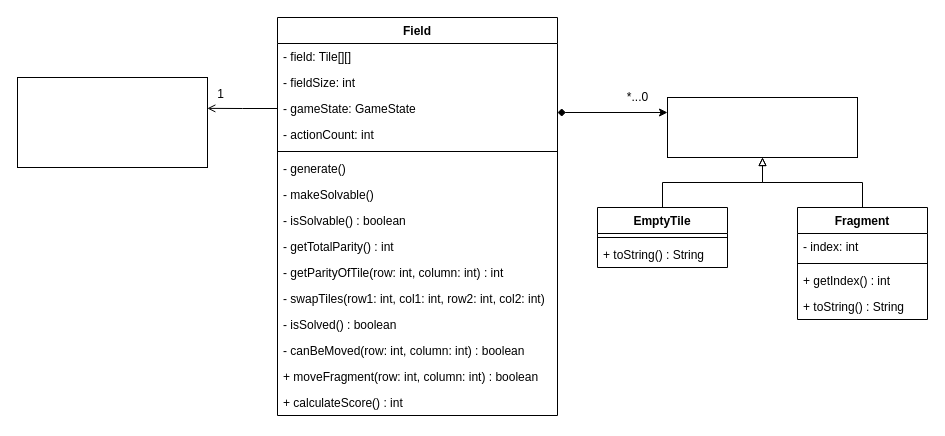
This 945x436 diagram has some shape labels left out. The shapes that lost their labels are listed below. From the top down, each one's centre as x and y in pixels, then its label:
the point at 112,122: <<enumeration>> GameState + SOLVED + PLAYING
the point at 762,127: <<abstract>> Tile
